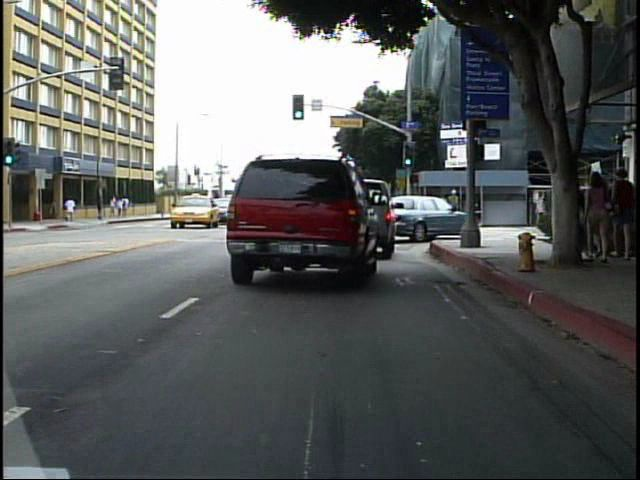person: (582, 168, 612, 266), (612, 166, 637, 264), (446, 185, 464, 229), (64, 193, 79, 225)
